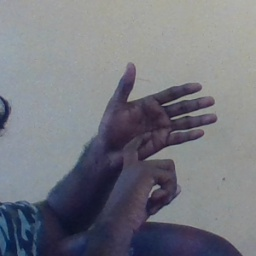R: (95, 60, 223, 209)
